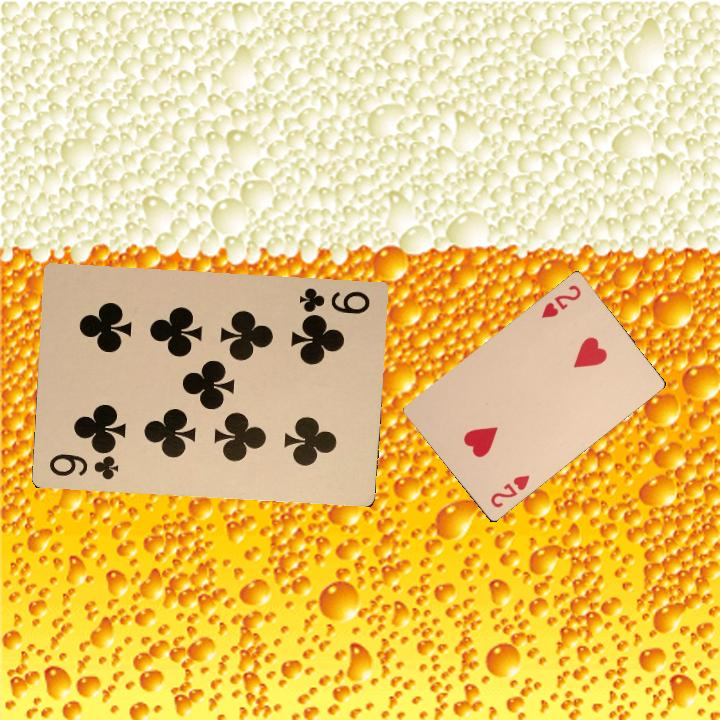2h: (537, 281, 584, 321), (486, 471, 532, 511)
9c: (45, 447, 122, 482), (295, 283, 373, 317)
